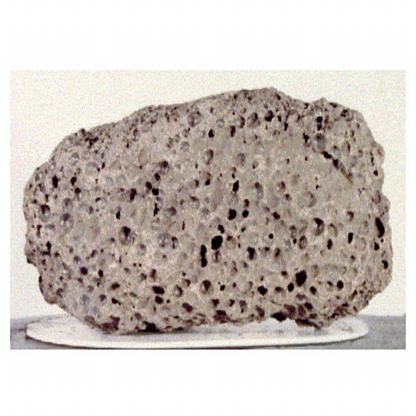Sedimentary_Chalk: (70, 114, 340, 331)
